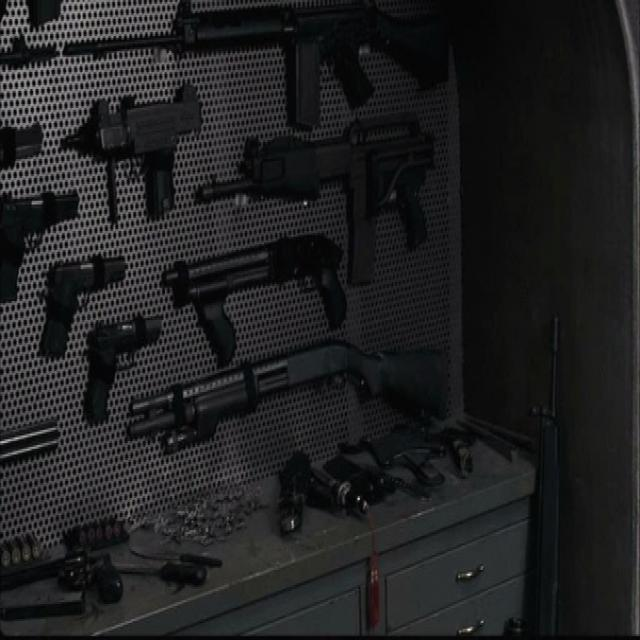rifle: (68, 1, 465, 139), (195, 106, 443, 290), (125, 341, 400, 469), (161, 229, 353, 358), (61, 81, 206, 236)
